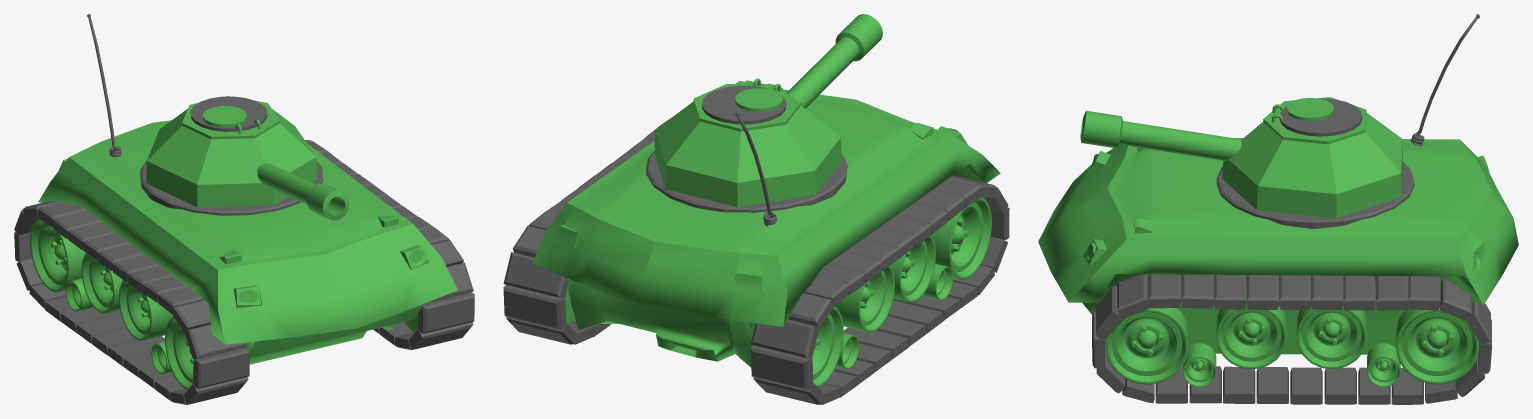
The model's file is Tank.fbx.
The picture shows the model from 3 angles, left to right: view 1: azimuth 30°, elevation 25°; view 2: azimuth 150°, elevation 25°; view 3: azimuth 270°, elevation 25°; orthographic projection. The views are drawn at different scales.
Visible parts, largest first — view 1: TankBody, RightDustTrail, Turret1, LeftDustTrail; view 2: TankBody, RightDustTrail, Turret1, LeftDustTrail; view 3: TankBody, LeftDustTrail, Turret1.
Boxes of the visible parts, x1=… form: TankBody: x1=38, y1=14, x2=457, y2=364; RightDustTrail: x1=14, y1=200, x2=249, y2=404; Turret1: x1=146, y1=96, x2=349, y2=220; LeftDustTrail: x1=305, y1=140, x2=474, y2=349; TankBody: x1=532, y1=80, x2=1000, y2=367; RightDustTrail: x1=750, y1=175, x2=1009, y2=404; Turret1: x1=654, y1=14, x2=882, y2=207; LeftDustTrail: x1=503, y1=117, x2=671, y2=344; TankBody: x1=1038, y1=14, x2=1518, y2=354; LeftDustTrail: x1=1092, y1=274, x2=1491, y2=404; Turret1: x1=1080, y1=97, x2=1402, y2=218.
Bounding box in the file's own units: 227 × 206 × 317.
